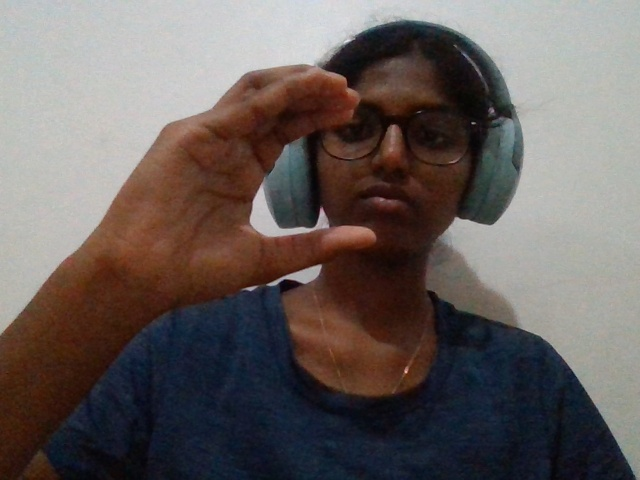C: (58, 46, 399, 350)
